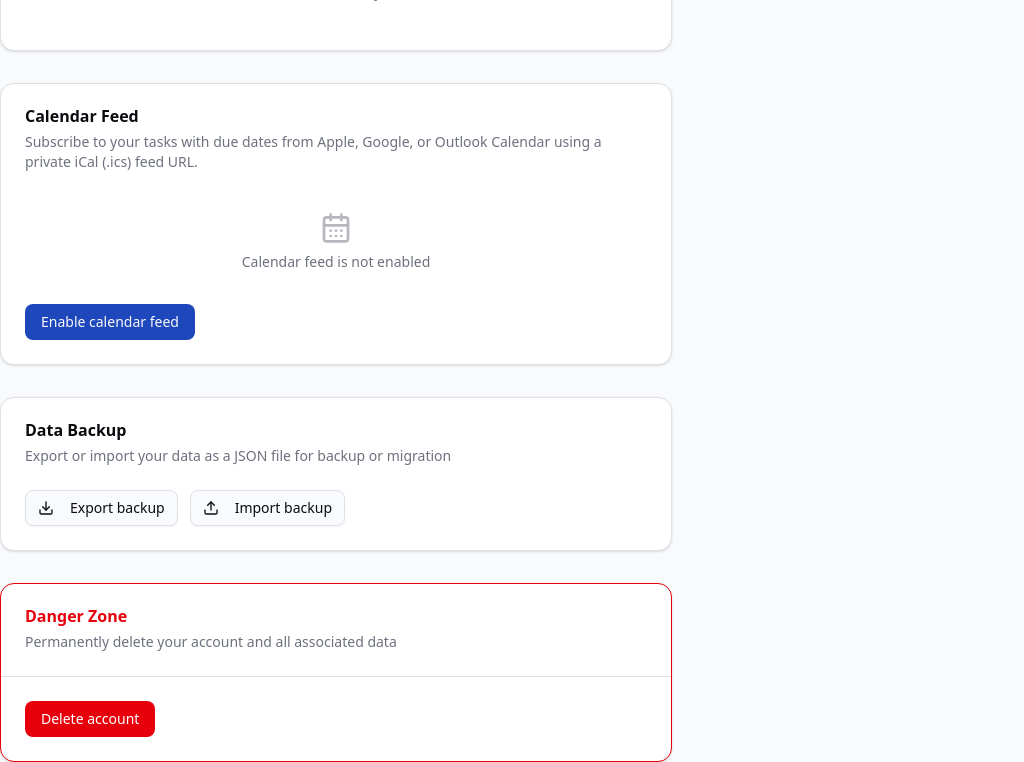
Scenario: SettingsClient › shows delete account confirmation dialog
(page scrolled)
Click the button "Delete account".
click(90, 719)  # box [25, 701, 155, 737]
(page scrolled)
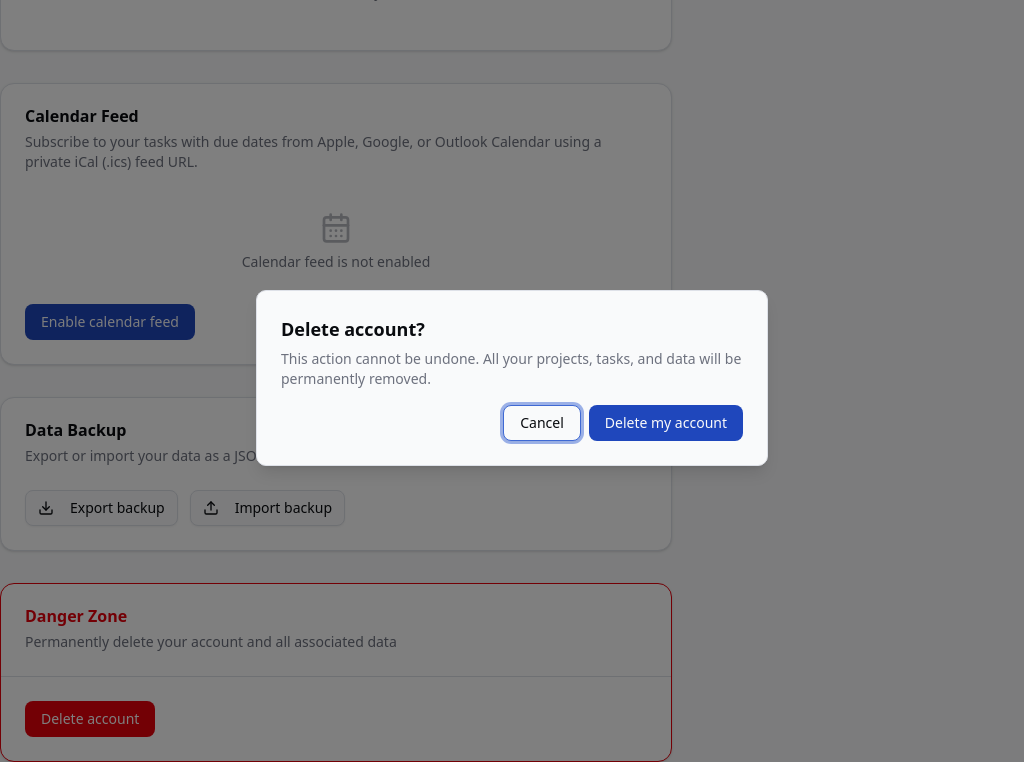
Expected: the heading "Delete account?" is shown, [281, 315, 425, 343]
